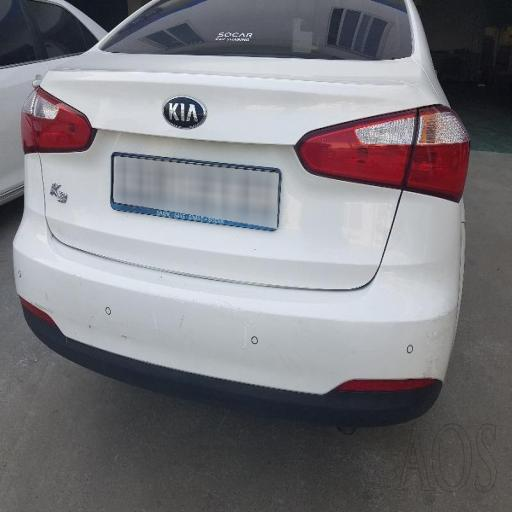scratch: (230, 66, 376, 136)
